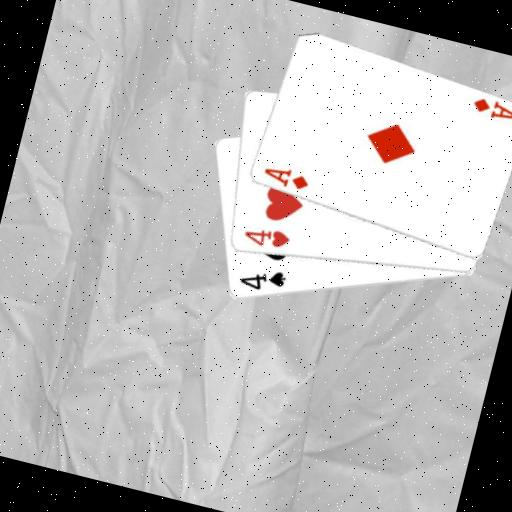4H: (239, 220, 293, 255)
4S: (235, 259, 289, 299)
AD: (258, 161, 312, 194), (467, 92, 512, 126)
